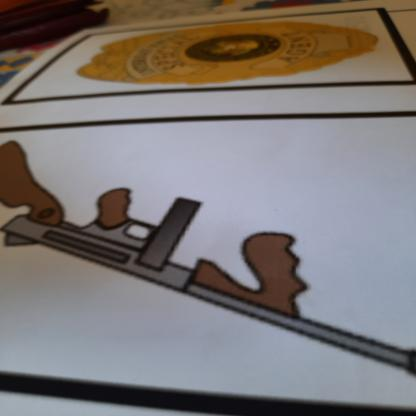Bootlegger: (4, 130, 416, 390)
G-man: (67, 19, 389, 94)
